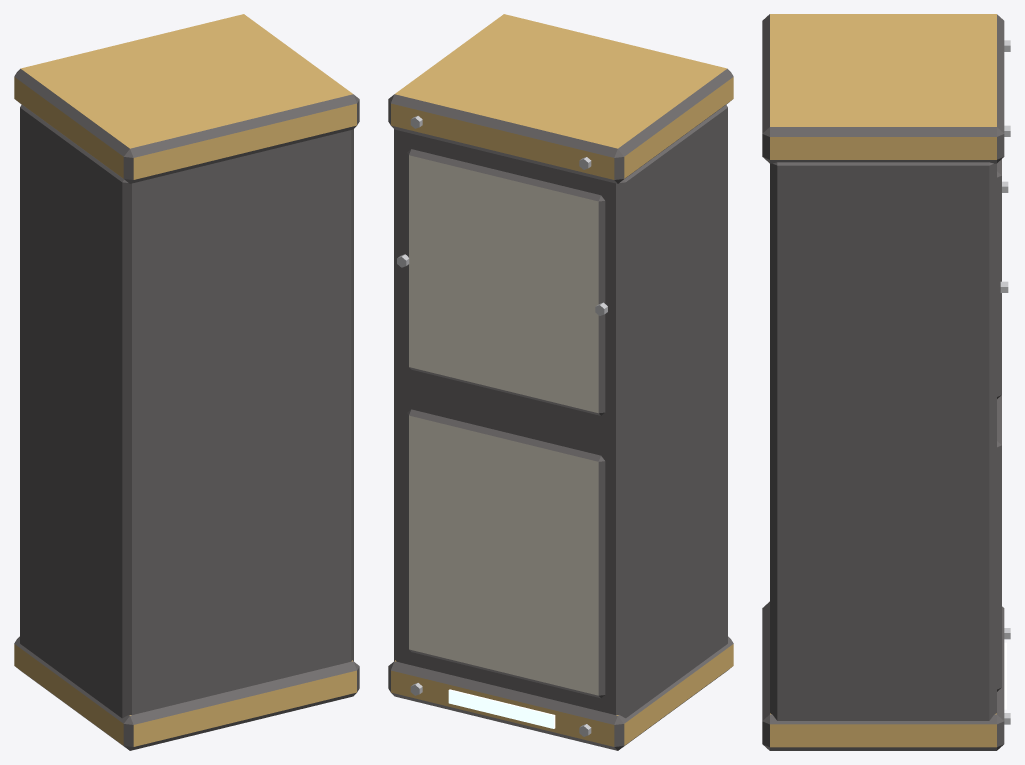
3 renders of one model, left to right at view 1: azimuth 30°, elevation 25°; view 2: azimuth 150°, elevation 25°; view 3: azimuth 270°, elevation 25°, orthographic. The views are drawn at different scales.
Parts seen in each view (by area): view 1: CO_Segment; view 2: CO_Segment; view 3: CO_Segment.
Part boxes in pixels (x1,y1,x2,y2): CO_Segment: (14,14,359,750); CO_Segment: (388,14,733,750); CO_Segment: (762,14,1010,750).
Bounding box in the file's own units: 1.12 × 2.73 × 0.985.
